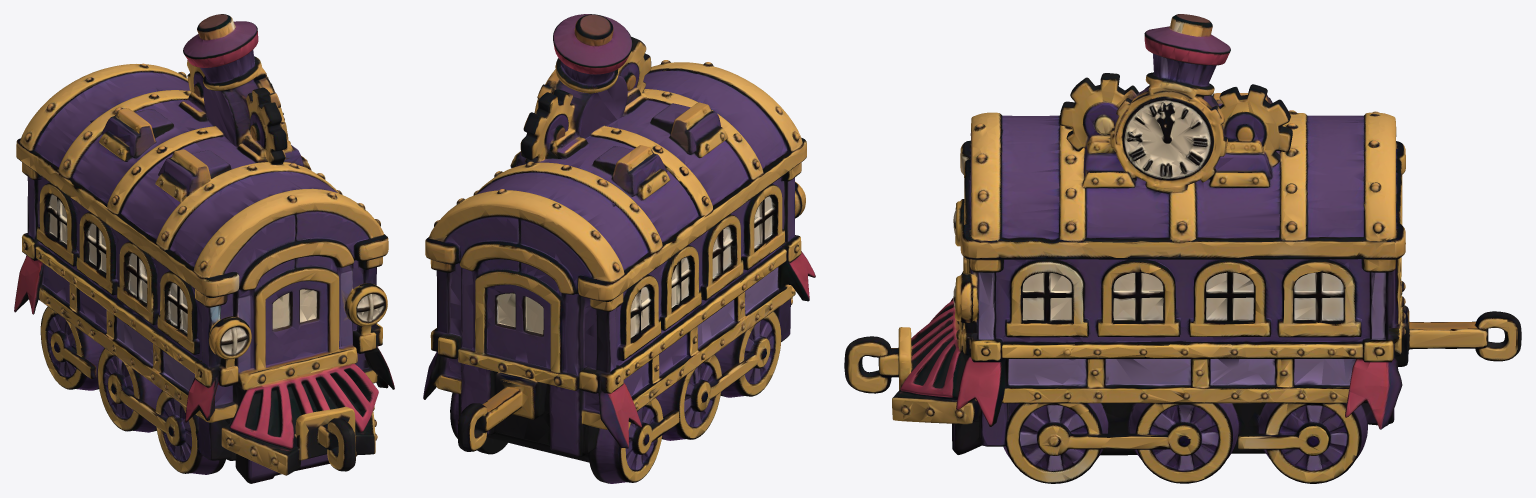
Rendered from Ch2_BossCoach.fbx.
3 renders of one model, left to right at view 1: azimuth 30°, elevation 25°; view 2: azimuth 150°, elevation 25°; view 3: azimuth 270°, elevation 25°, orthographic. The views are drawn at different scales.
Visible parts, largest first — view 1: Ch2_BossCoach; view 2: Ch2_BossCoach; view 3: Ch2_BossCoach.
Part boxes in pixels (x1,y1,x2,y2): Ch2_BossCoach: [14, 14, 394, 483]; Ch2_BossCoach: [423, 14, 815, 483]; Ch2_BossCoach: [844, 14, 1521, 483].
Size of the model in its own units: 1.96 by 3.59 by 5.
1 material, 1 textured.
